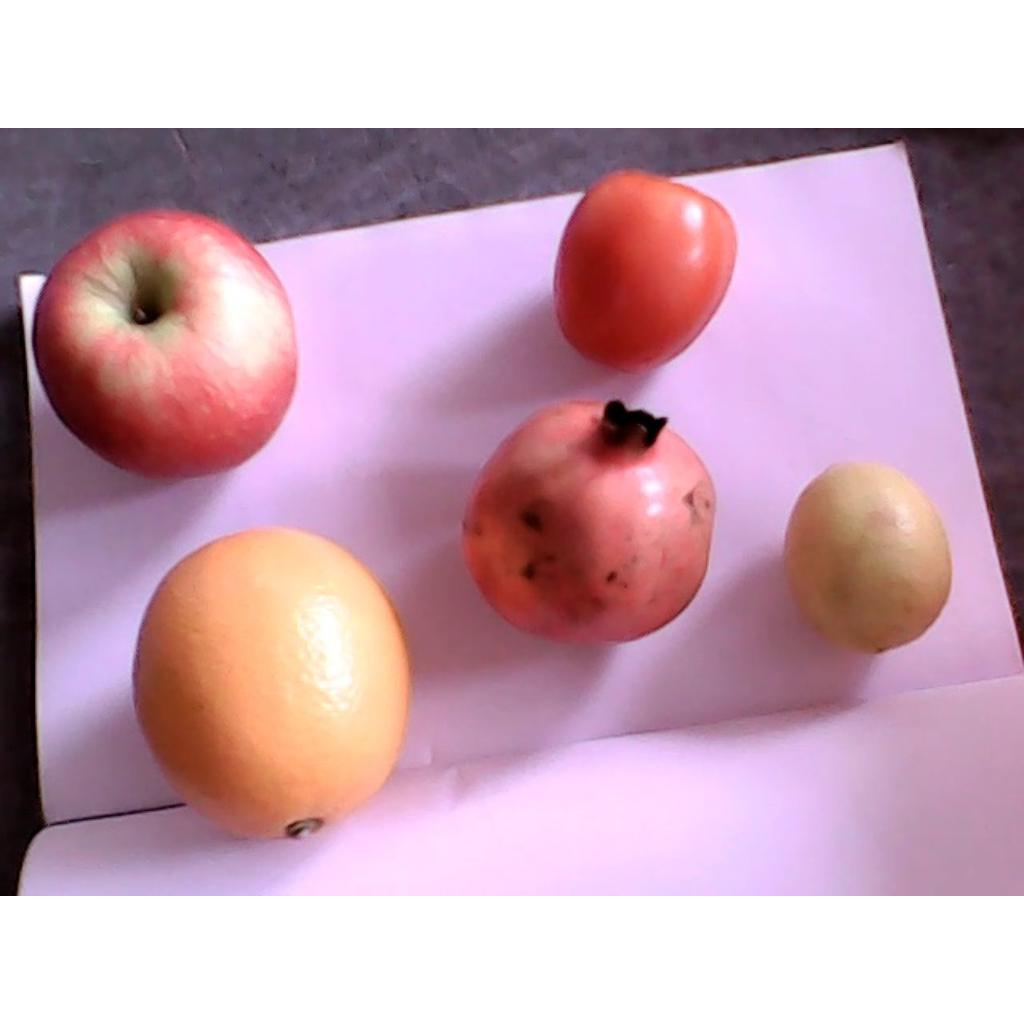apple: (31, 211, 296, 476)
lemon: (781, 458, 952, 657)
orange: (132, 529, 412, 840)
pomegranate: (456, 399, 716, 647)
tomato: (551, 168, 736, 378)
